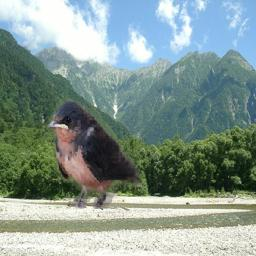Swallow: (46, 99, 142, 210)
